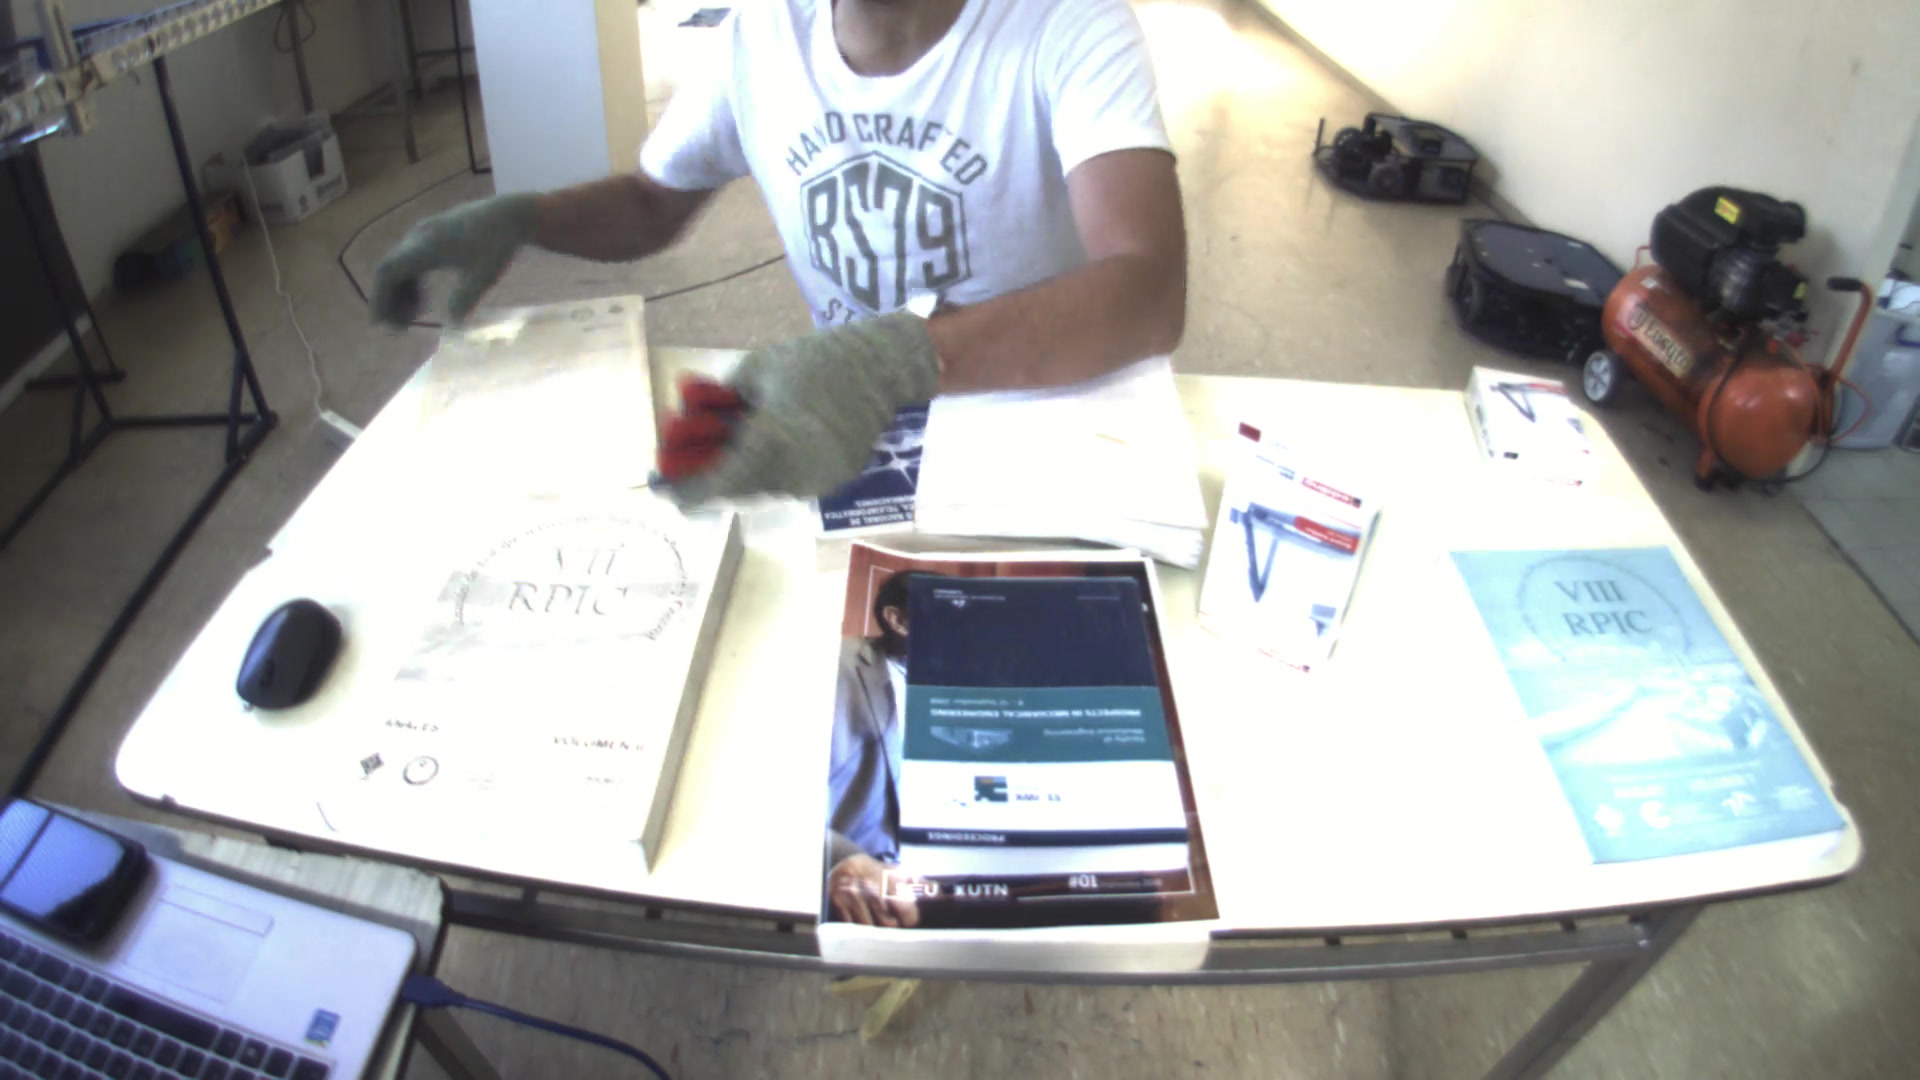hand: (705, 307, 938, 502), (353, 175, 542, 328)
